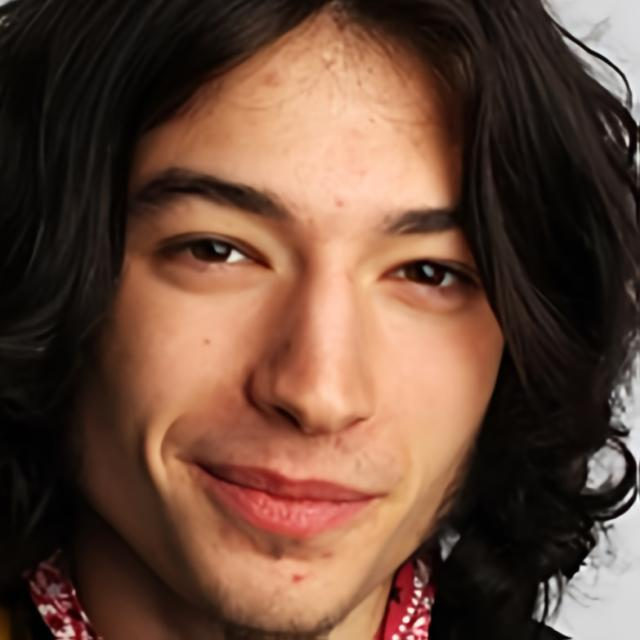content: (64, 0, 508, 640)
